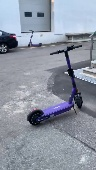beam: (25, 44, 88, 126), (26, 28, 44, 49)
